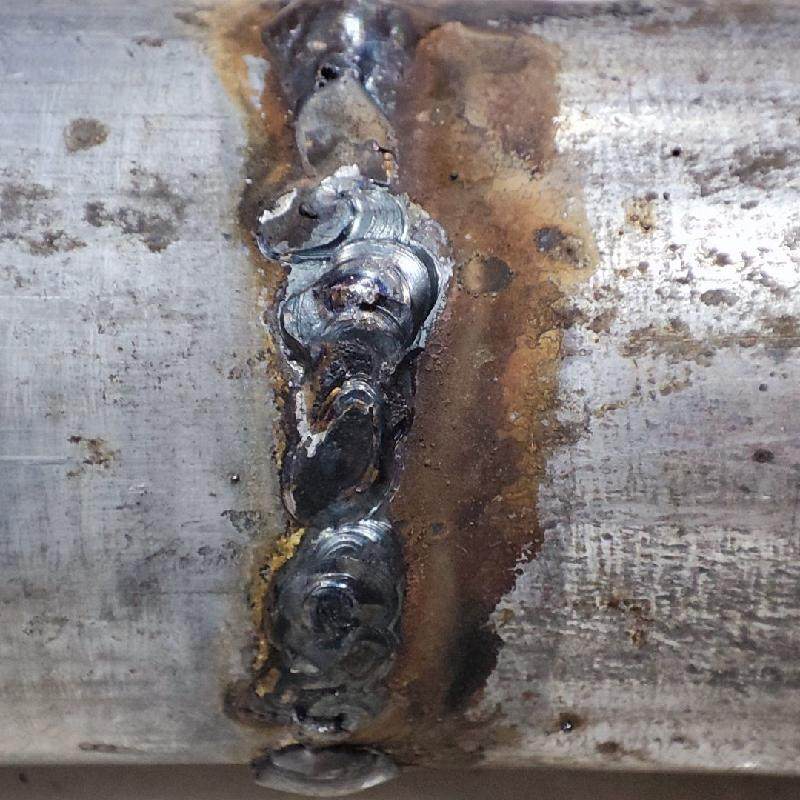Not_fully_soldered: (286, 60, 400, 179)
Surface_pores: (308, 55, 348, 90)
Weld: (263, 0, 404, 67)
wrong_size: (280, 185, 429, 696)
